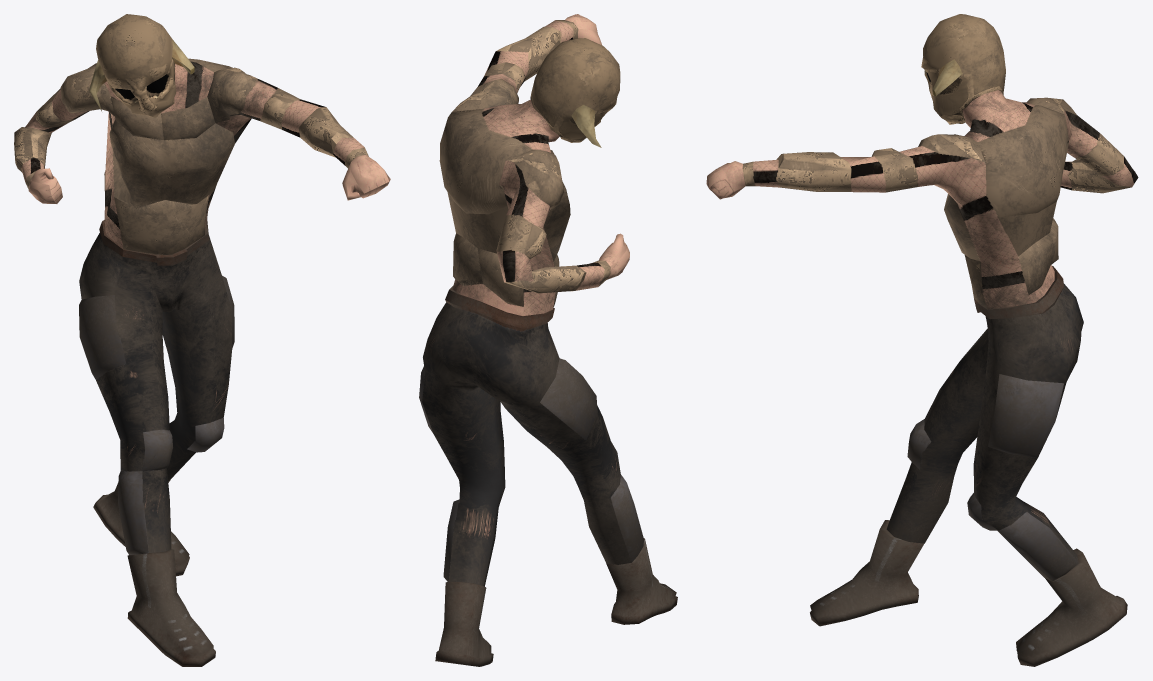
Rendered from Anim_ataque_d3_npc1.0032.obj.
3 views of the same model, side by side, from view 1: azimuth 30°, elevation 25°; view 2: azimuth 150°, elevation 25°; view 3: azimuth 270°, elevation 25° (orthographic). The views are drawn at different scales.
Parts seen in each view (by area): view 1: NPC2; view 2: NPC2; view 3: NPC2.
Boxes of the visible parts, <box> form: NPC2: <box>14,14,390,666</box>; NPC2: <box>419,14,677,666</box>; NPC2: <box>706,14,1138,666</box>.
Bounding box in the file's own units: 3.36 × 8.99 × 5.78.
